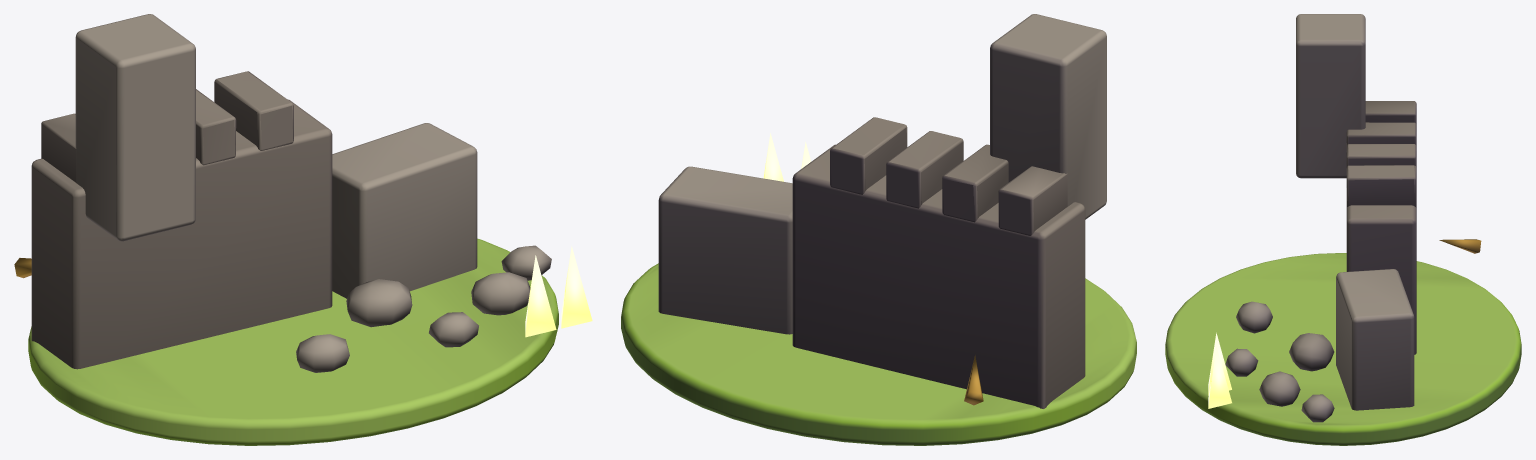
File: jericho.glb
The picture shows the model from 3 angles, left to right: view 1: azimuth 30°, elevation 25°; view 2: azimuth 150°, elevation 25°; view 3: azimuth 270°, elevation 25°; orthographic projection. The views are drawn at different scales.
Visible parts, largest first — view 1: jericho; view 2: jericho; view 3: jericho.
Part boxes in pixels (left/top/right/bottom): jericho: left=14, top=14, right=592, bottom=445; jericho: left=621, top=14, right=1136, bottom=445; jericho: left=1165, top=14, right=1521, bottom=445.
Bounding box in the file's own units: 6.6 × 4.7 × 5.61.
